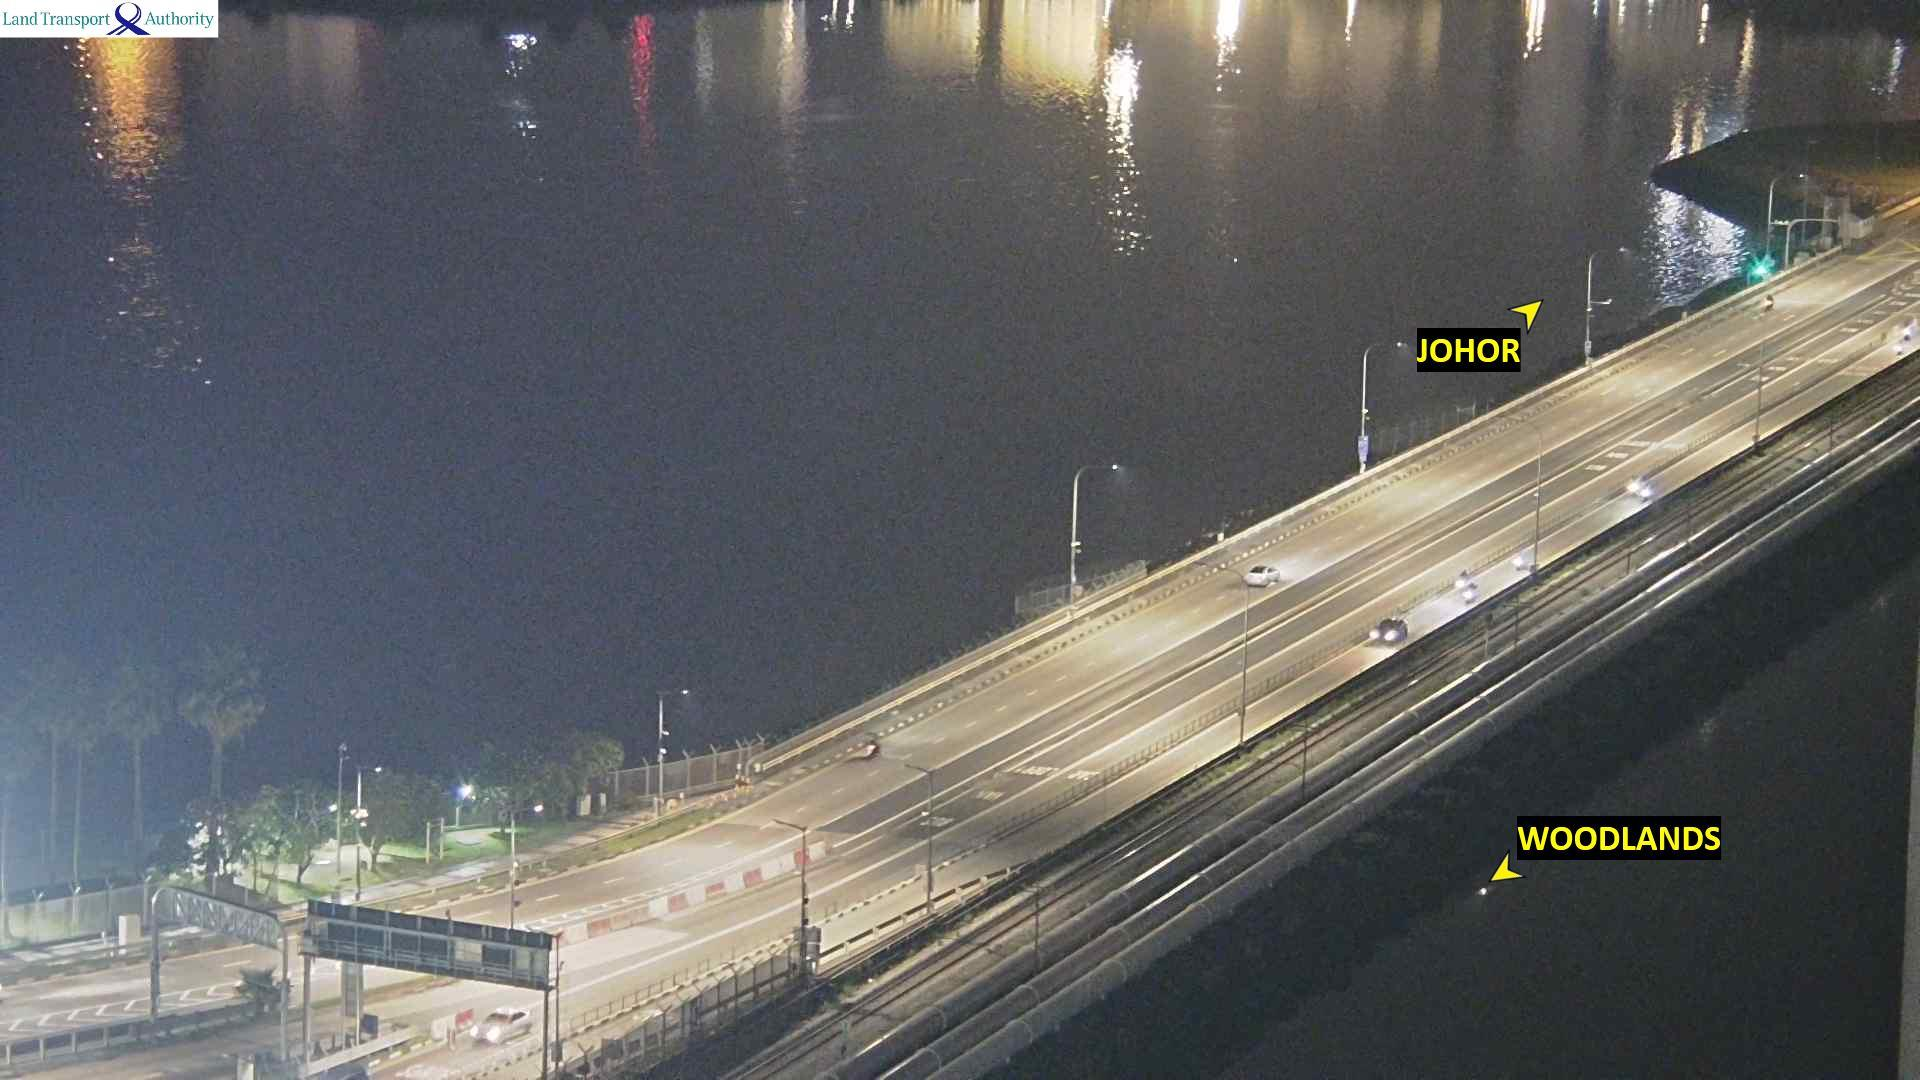vehicle-causeway-johor: (1245, 566, 1280, 584), (866, 738, 880, 756), (1763, 294, 1775, 309)
vehicle-causeway-singapore: (469, 1007, 530, 1042), (1373, 616, 1404, 642), (1464, 582, 1480, 604), (1639, 483, 1654, 501), (1626, 477, 1642, 493), (1456, 571, 1468, 589), (1514, 554, 1524, 568), (1896, 344, 1903, 363), (1904, 330, 1909, 343)
